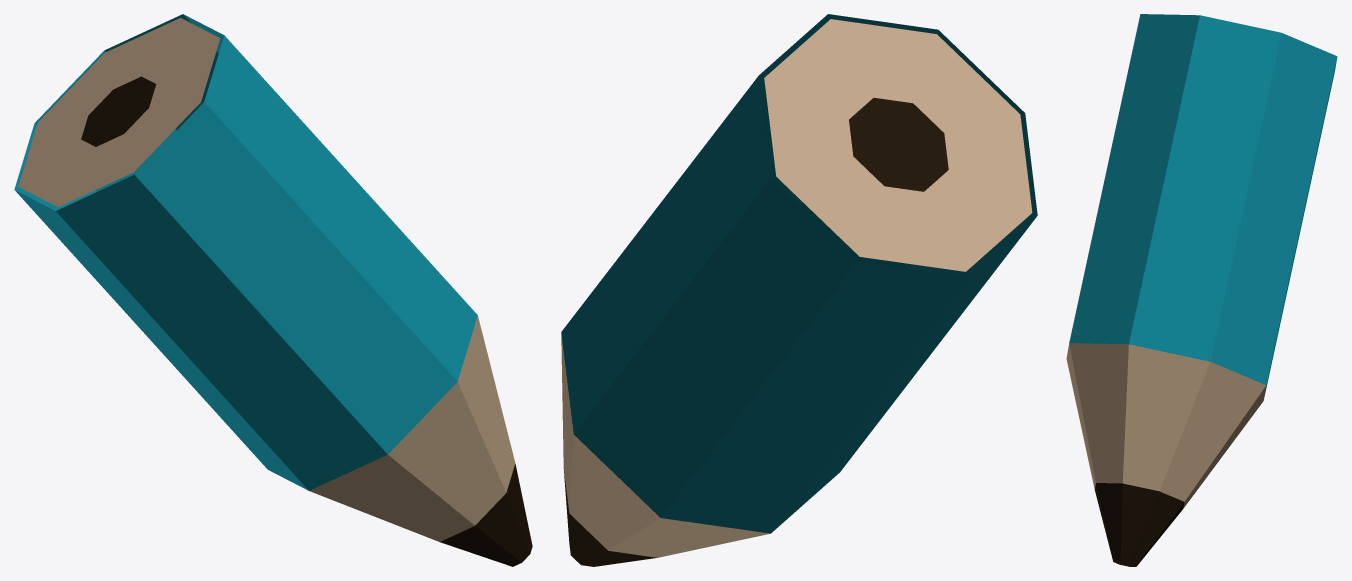
File: pencil_merged_animate.glb
The picture shows the model from 3 angles, left to right: view 1: azimuth 30°, elevation 25°; view 2: azimuth 150°, elevation 25°; view 3: azimuth 270°, elevation 25°; orthographic projection. The views are drawn at different scales.
Parts seen in each view (by area): view 1: pencil; view 2: pencil; view 3: pencil.
Boxes of the visible parts, x1=… form: pencil: x1=14, y1=14, x2=532, y2=566; pencil: x1=561, y1=14, x2=1037, y2=566; pencil: x1=1066, y1=14, x2=1337, y2=566.
Size of the model in its own units: 3.13 by 3.84 by 2.07.
